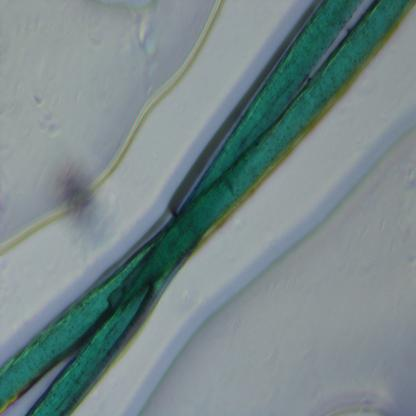Air bubble: (130, 130, 416, 412), (0, 1, 225, 262)
Background material: (50, 162, 114, 244)
Microfibre: (0, 1, 413, 415)
